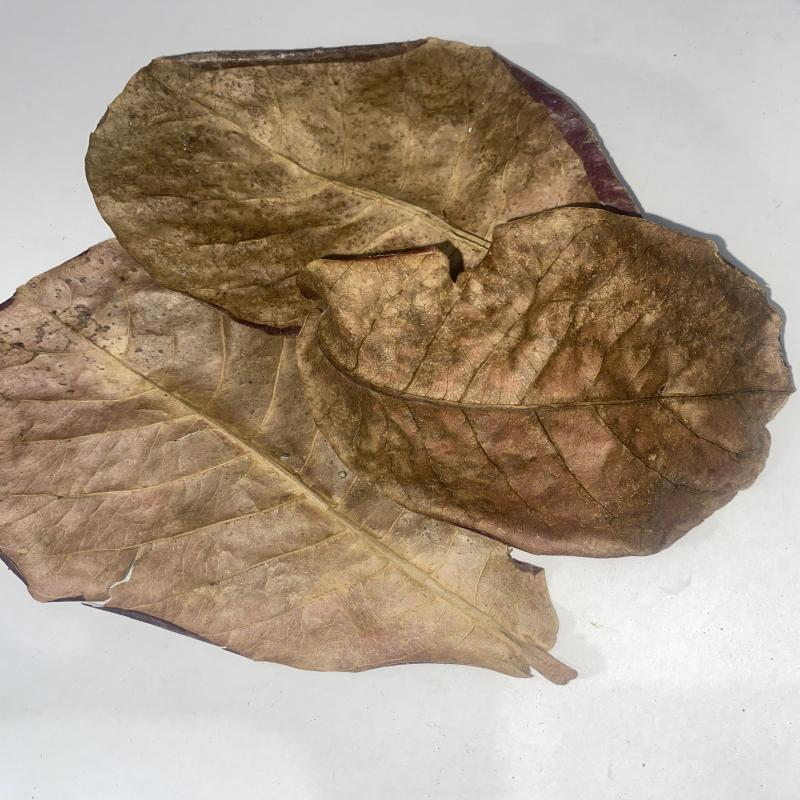treeleaves: (0, 240, 577, 686), (297, 206, 793, 561), (83, 38, 648, 332)
